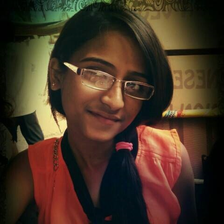no_mask: (66, 47, 145, 141)
